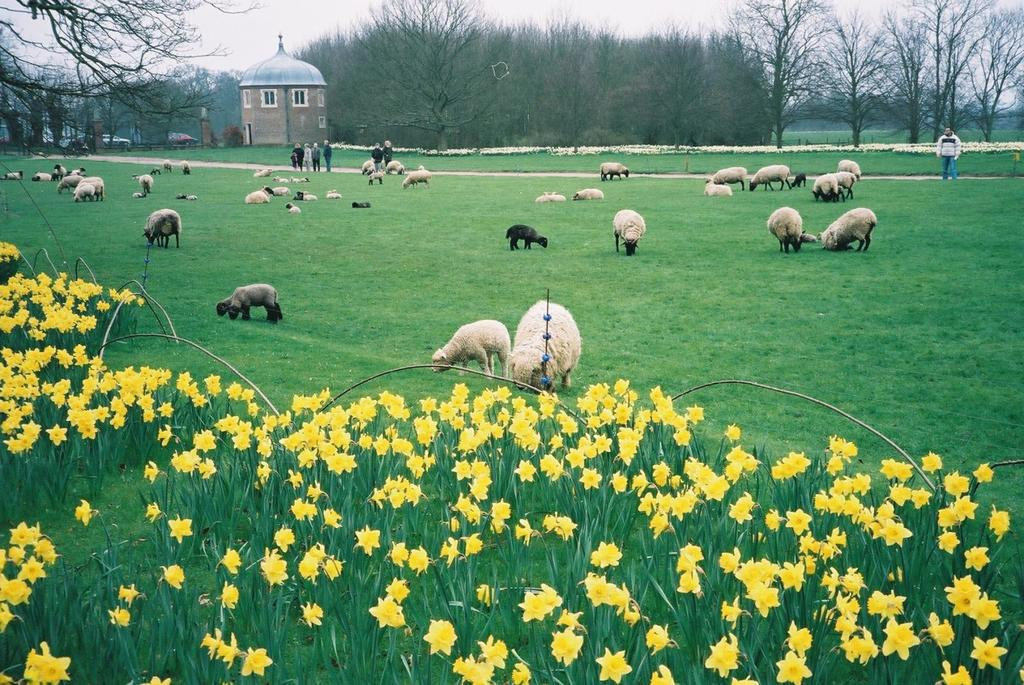sheep: (818, 204, 880, 252), (763, 205, 803, 252), (225, 289, 276, 324), (613, 210, 643, 252), (505, 223, 545, 251), (599, 163, 629, 181), (574, 189, 606, 200), (140, 172, 156, 189), (543, 191, 563, 200), (179, 159, 190, 171), (165, 159, 172, 172), (149, 168, 161, 173), (133, 172, 140, 179), (133, 193, 145, 196)
